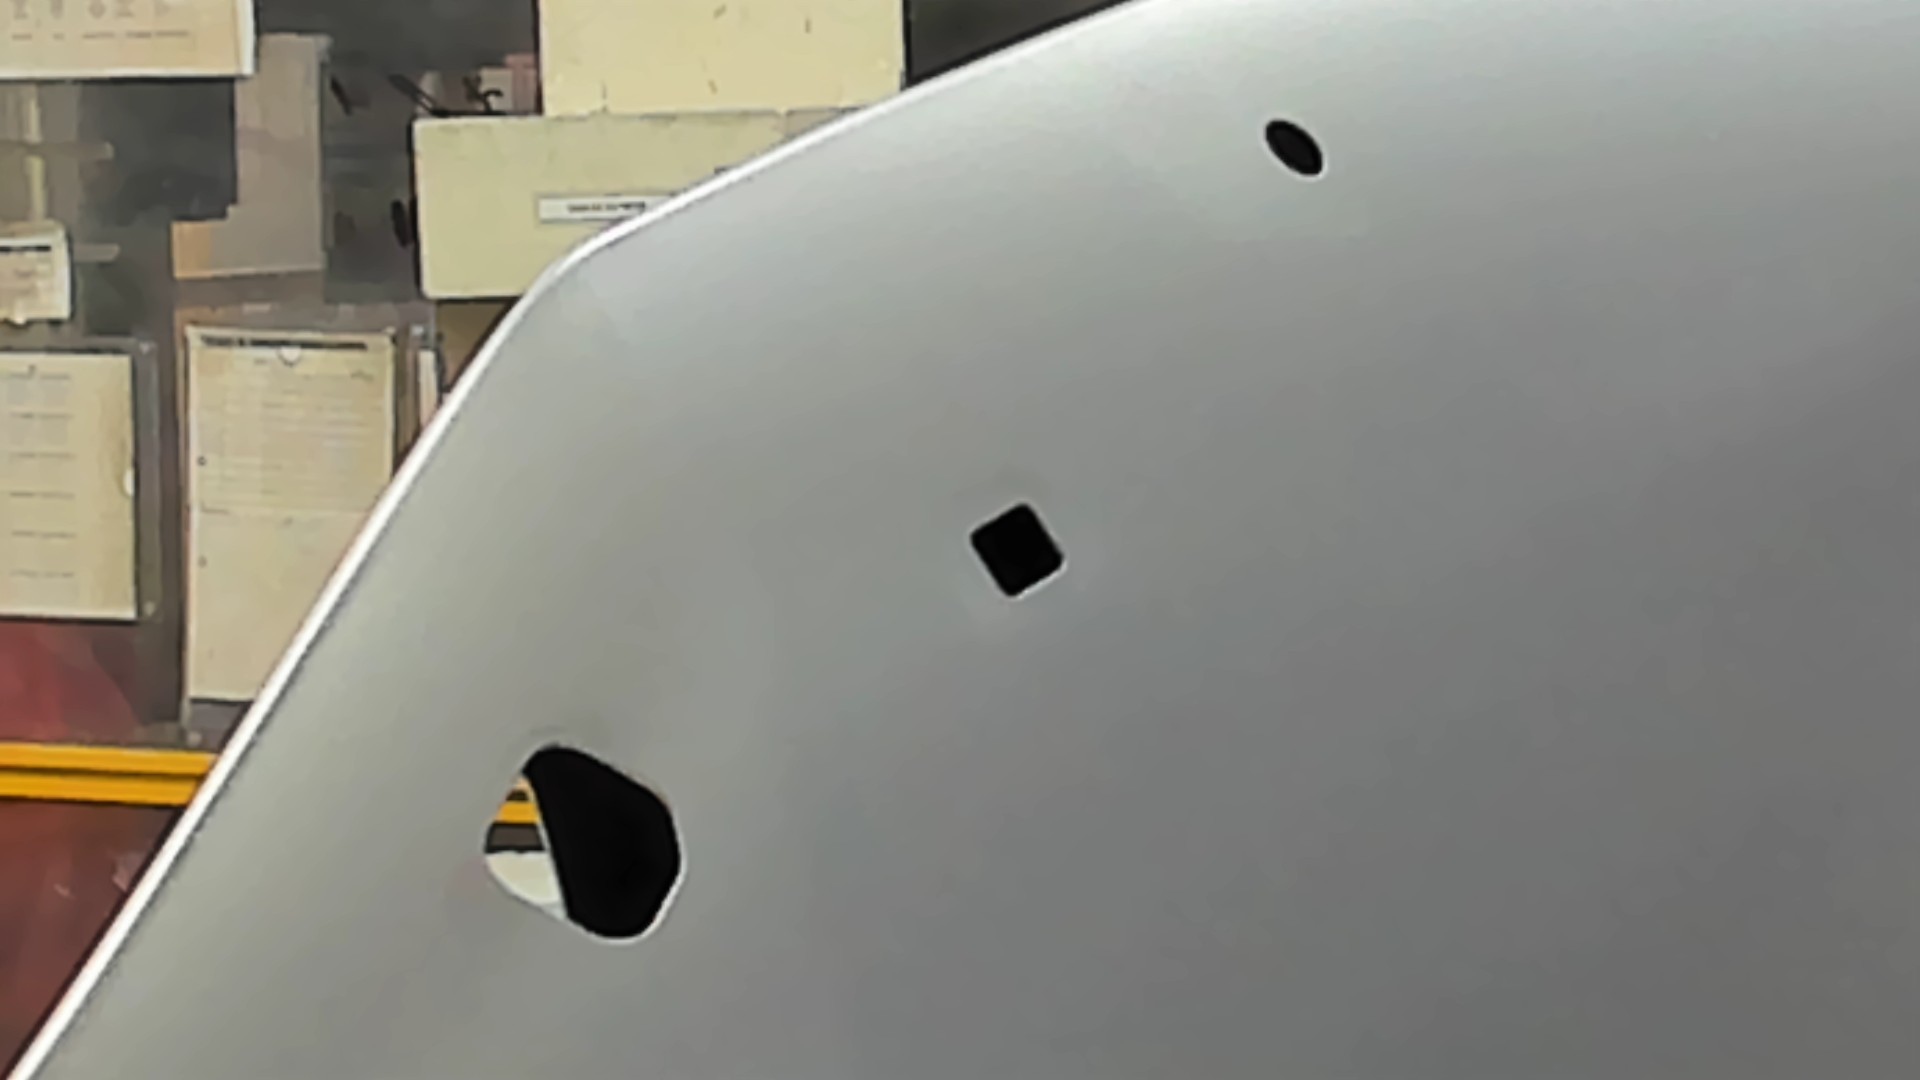chico: (1261, 113, 1327, 179)
grande: (480, 740, 688, 947)
mediano: (967, 500, 1069, 601)
